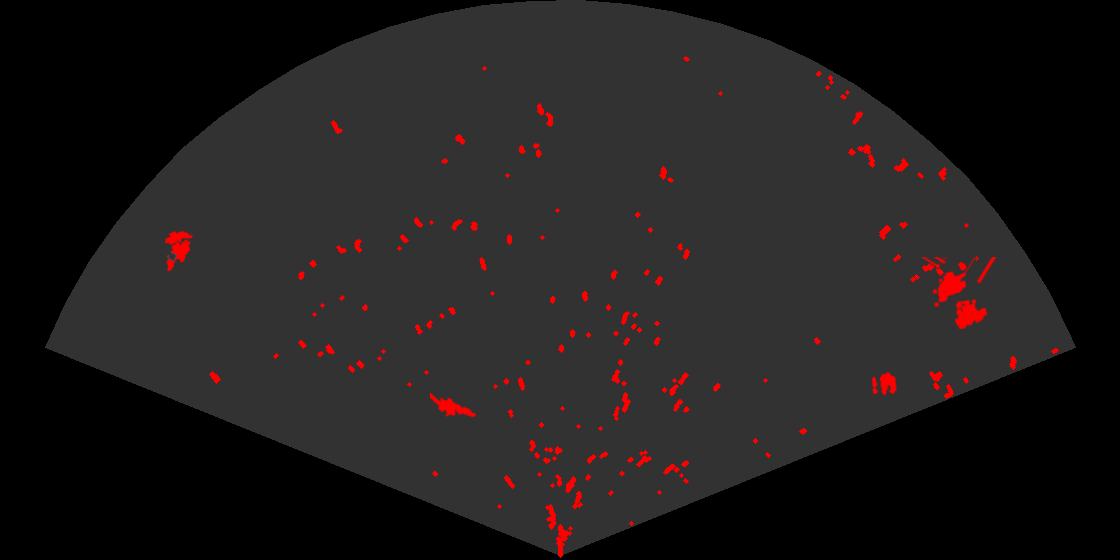AUV: (165, 238, 192, 273), (163, 230, 195, 247)
ball: (870, 371, 898, 397)
cage: (919, 257, 998, 331)
frogman: (430, 390, 478, 420)
